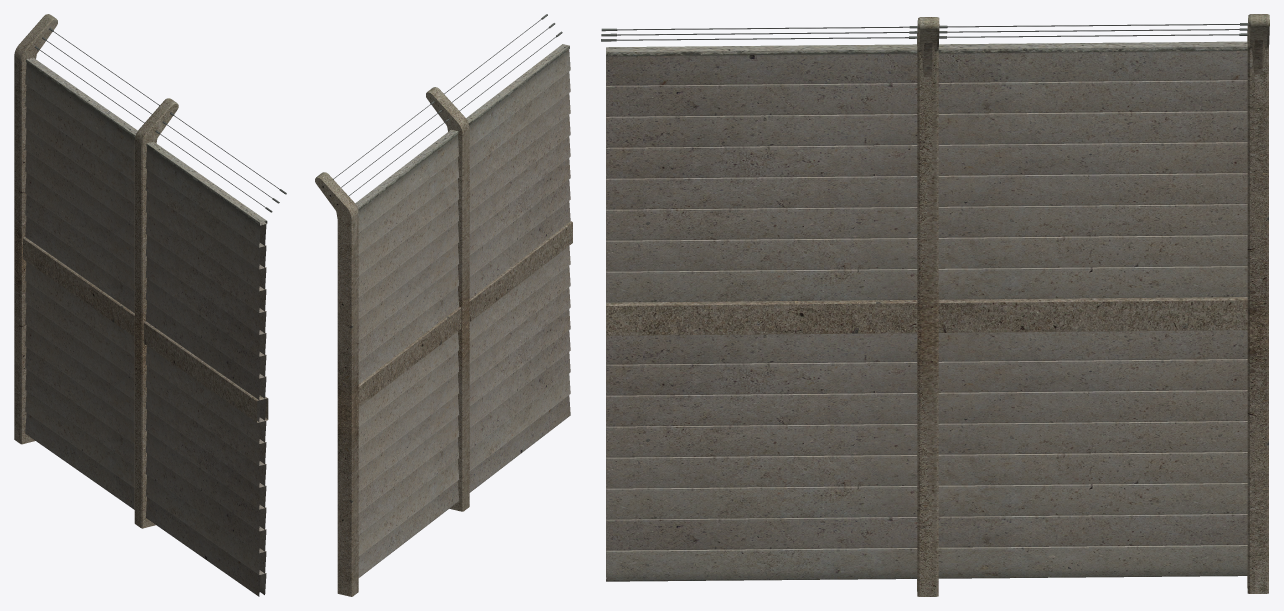
Rendered from object_29.018_lev2.012_lev3.glb.
3 renders of one model, left to right at view 1: azimuth 30°, elevation 25°; view 2: azimuth 150°, elevation 25°; view 3: azimuth 270°, elevation 25°, orthographic. The views are drawn at different scales.
Parts seen in each view (by area): view 1: object_29.018_lev2.012_lev3; view 2: object_29.018_lev2.012_lev3; view 3: object_29.018_lev2.012_lev3.
Boxes of the visible parts, bbox=[...] form: object_29.018_lev2.012_lev3: bbox=[14, 14, 286, 596]; object_29.018_lev2.012_lev3: bbox=[315, 14, 572, 596]; object_29.018_lev2.012_lev3: bbox=[601, 14, 1269, 596].
Bounding box in the file's own units: 1.64 × 15.45 × 15.82.
1 material, 1 textured.
